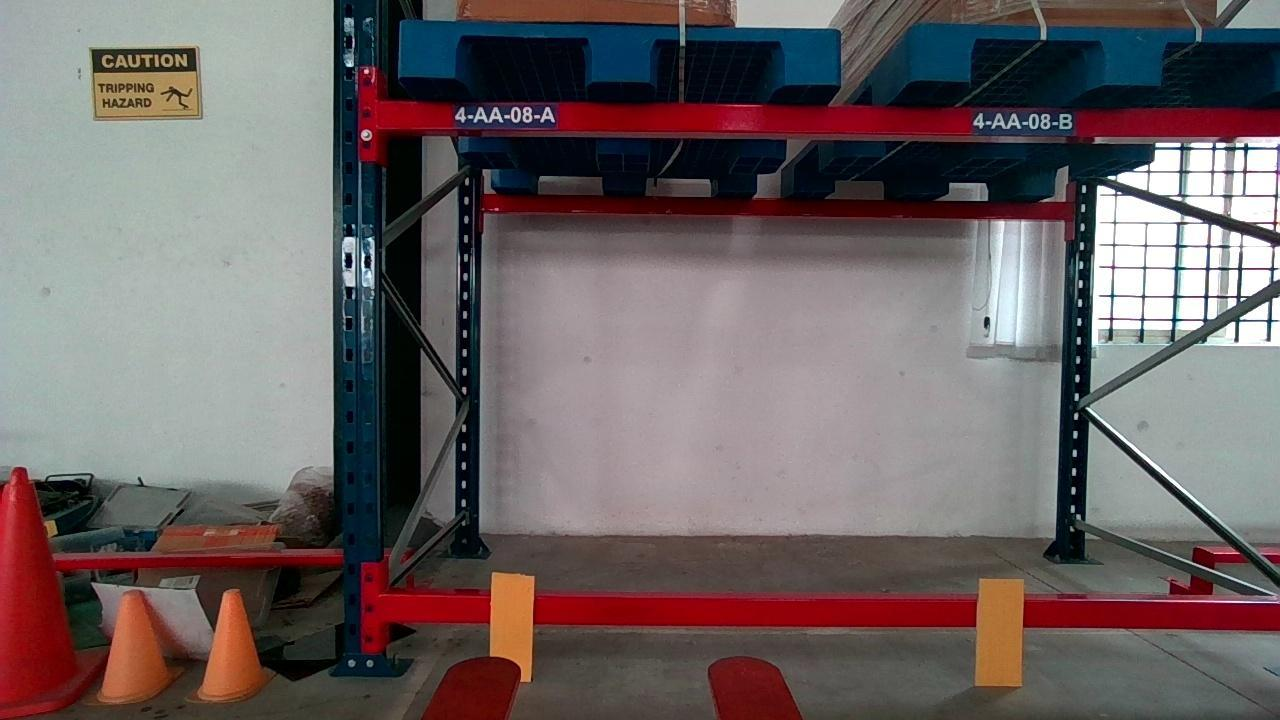h_rack: (380, 595, 1277, 631), (380, 101, 1279, 136)
orange_strip: (977, 580, 1025, 684), (492, 574, 532, 682)
small_pallet: (399, 21, 838, 89), (914, 22, 1278, 94)
